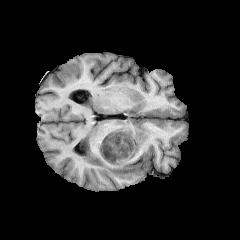glioma: (81, 116, 141, 179)
